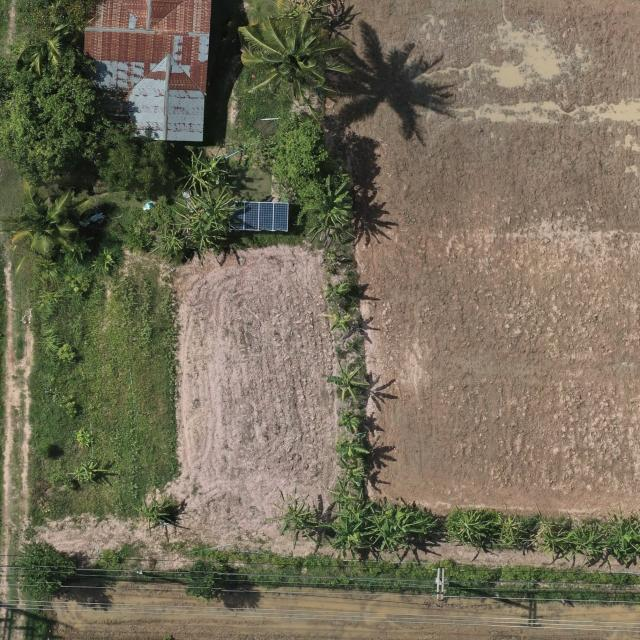Tree: (0, 66, 99, 182), (237, 11, 355, 102), (0, 181, 97, 261), (97, 123, 181, 201), (271, 112, 331, 201), (10, 538, 76, 599), (17, 21, 86, 75), (266, 486, 324, 548), (305, 174, 354, 246), (130, 494, 178, 538), (327, 360, 370, 403), (185, 559, 221, 601), (66, 455, 108, 483)
